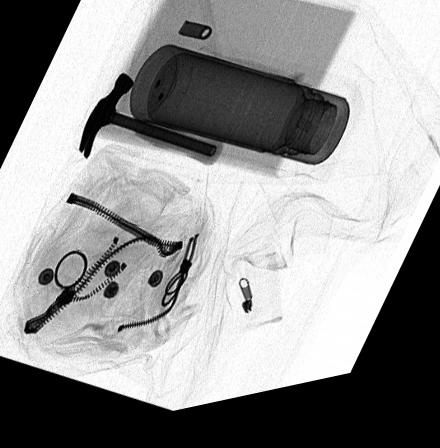Hammer: (77, 78, 222, 176)
